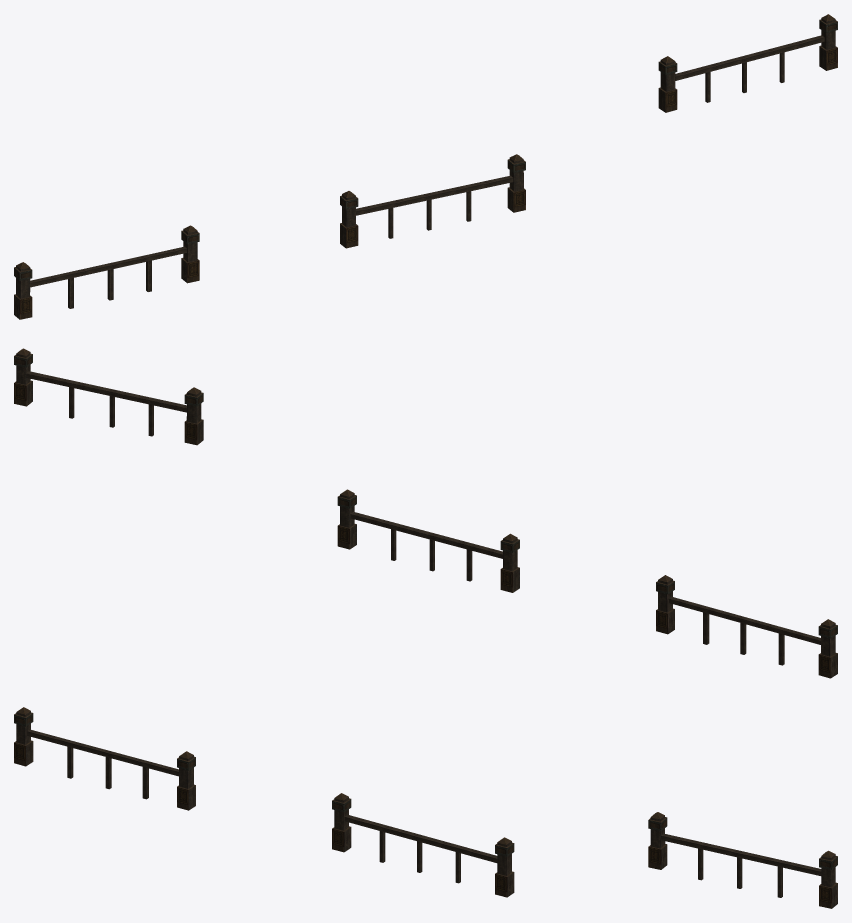
The model's file is rail_crack04.glb.
The picture shows the model from 3 angles, top to bottom: view 1: azimuth 30°, elevation 25°; view 2: azimuth 150°, elevation 25°; view 3: azimuth 330°, elevation 25°; orthographic projection. The views are drawn at different scales.
Parts seen in each view (by area): view 1: ship_rail_04; view 2: ship_rail_04; view 3: ship_rail_04.
Part boxes in pixels (left/top/right/bottom): ship_rail_04: left=14, top=14, right=837, bottom=319; ship_rail_04: left=14, top=348, right=837, bottom=678; ship_rail_04: left=14, top=707, right=837, bottom=908.
Bounding box in the file's own units: 43.68 × 6.13 × 1.92.
Materials: 3 (3 with a texture image).
